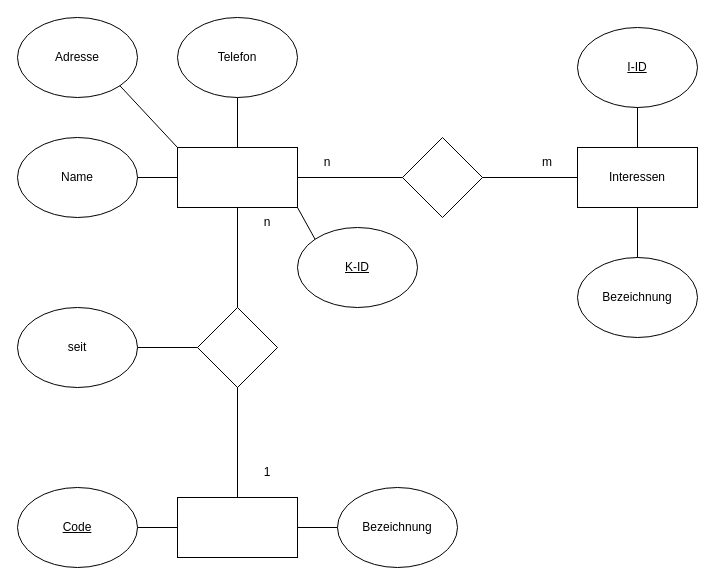
The diagram is 715 pixels wide and 585 high, and some of its shapes have lost their labels. The box of each missing label's shape, as (x1, y1, x2, y2) in pixels:
haben: (402, 136, 482, 218)
Kunden: (176, 146, 298, 208)
Länder: (176, 496, 298, 558)
wohnen in: (196, 306, 278, 388)
